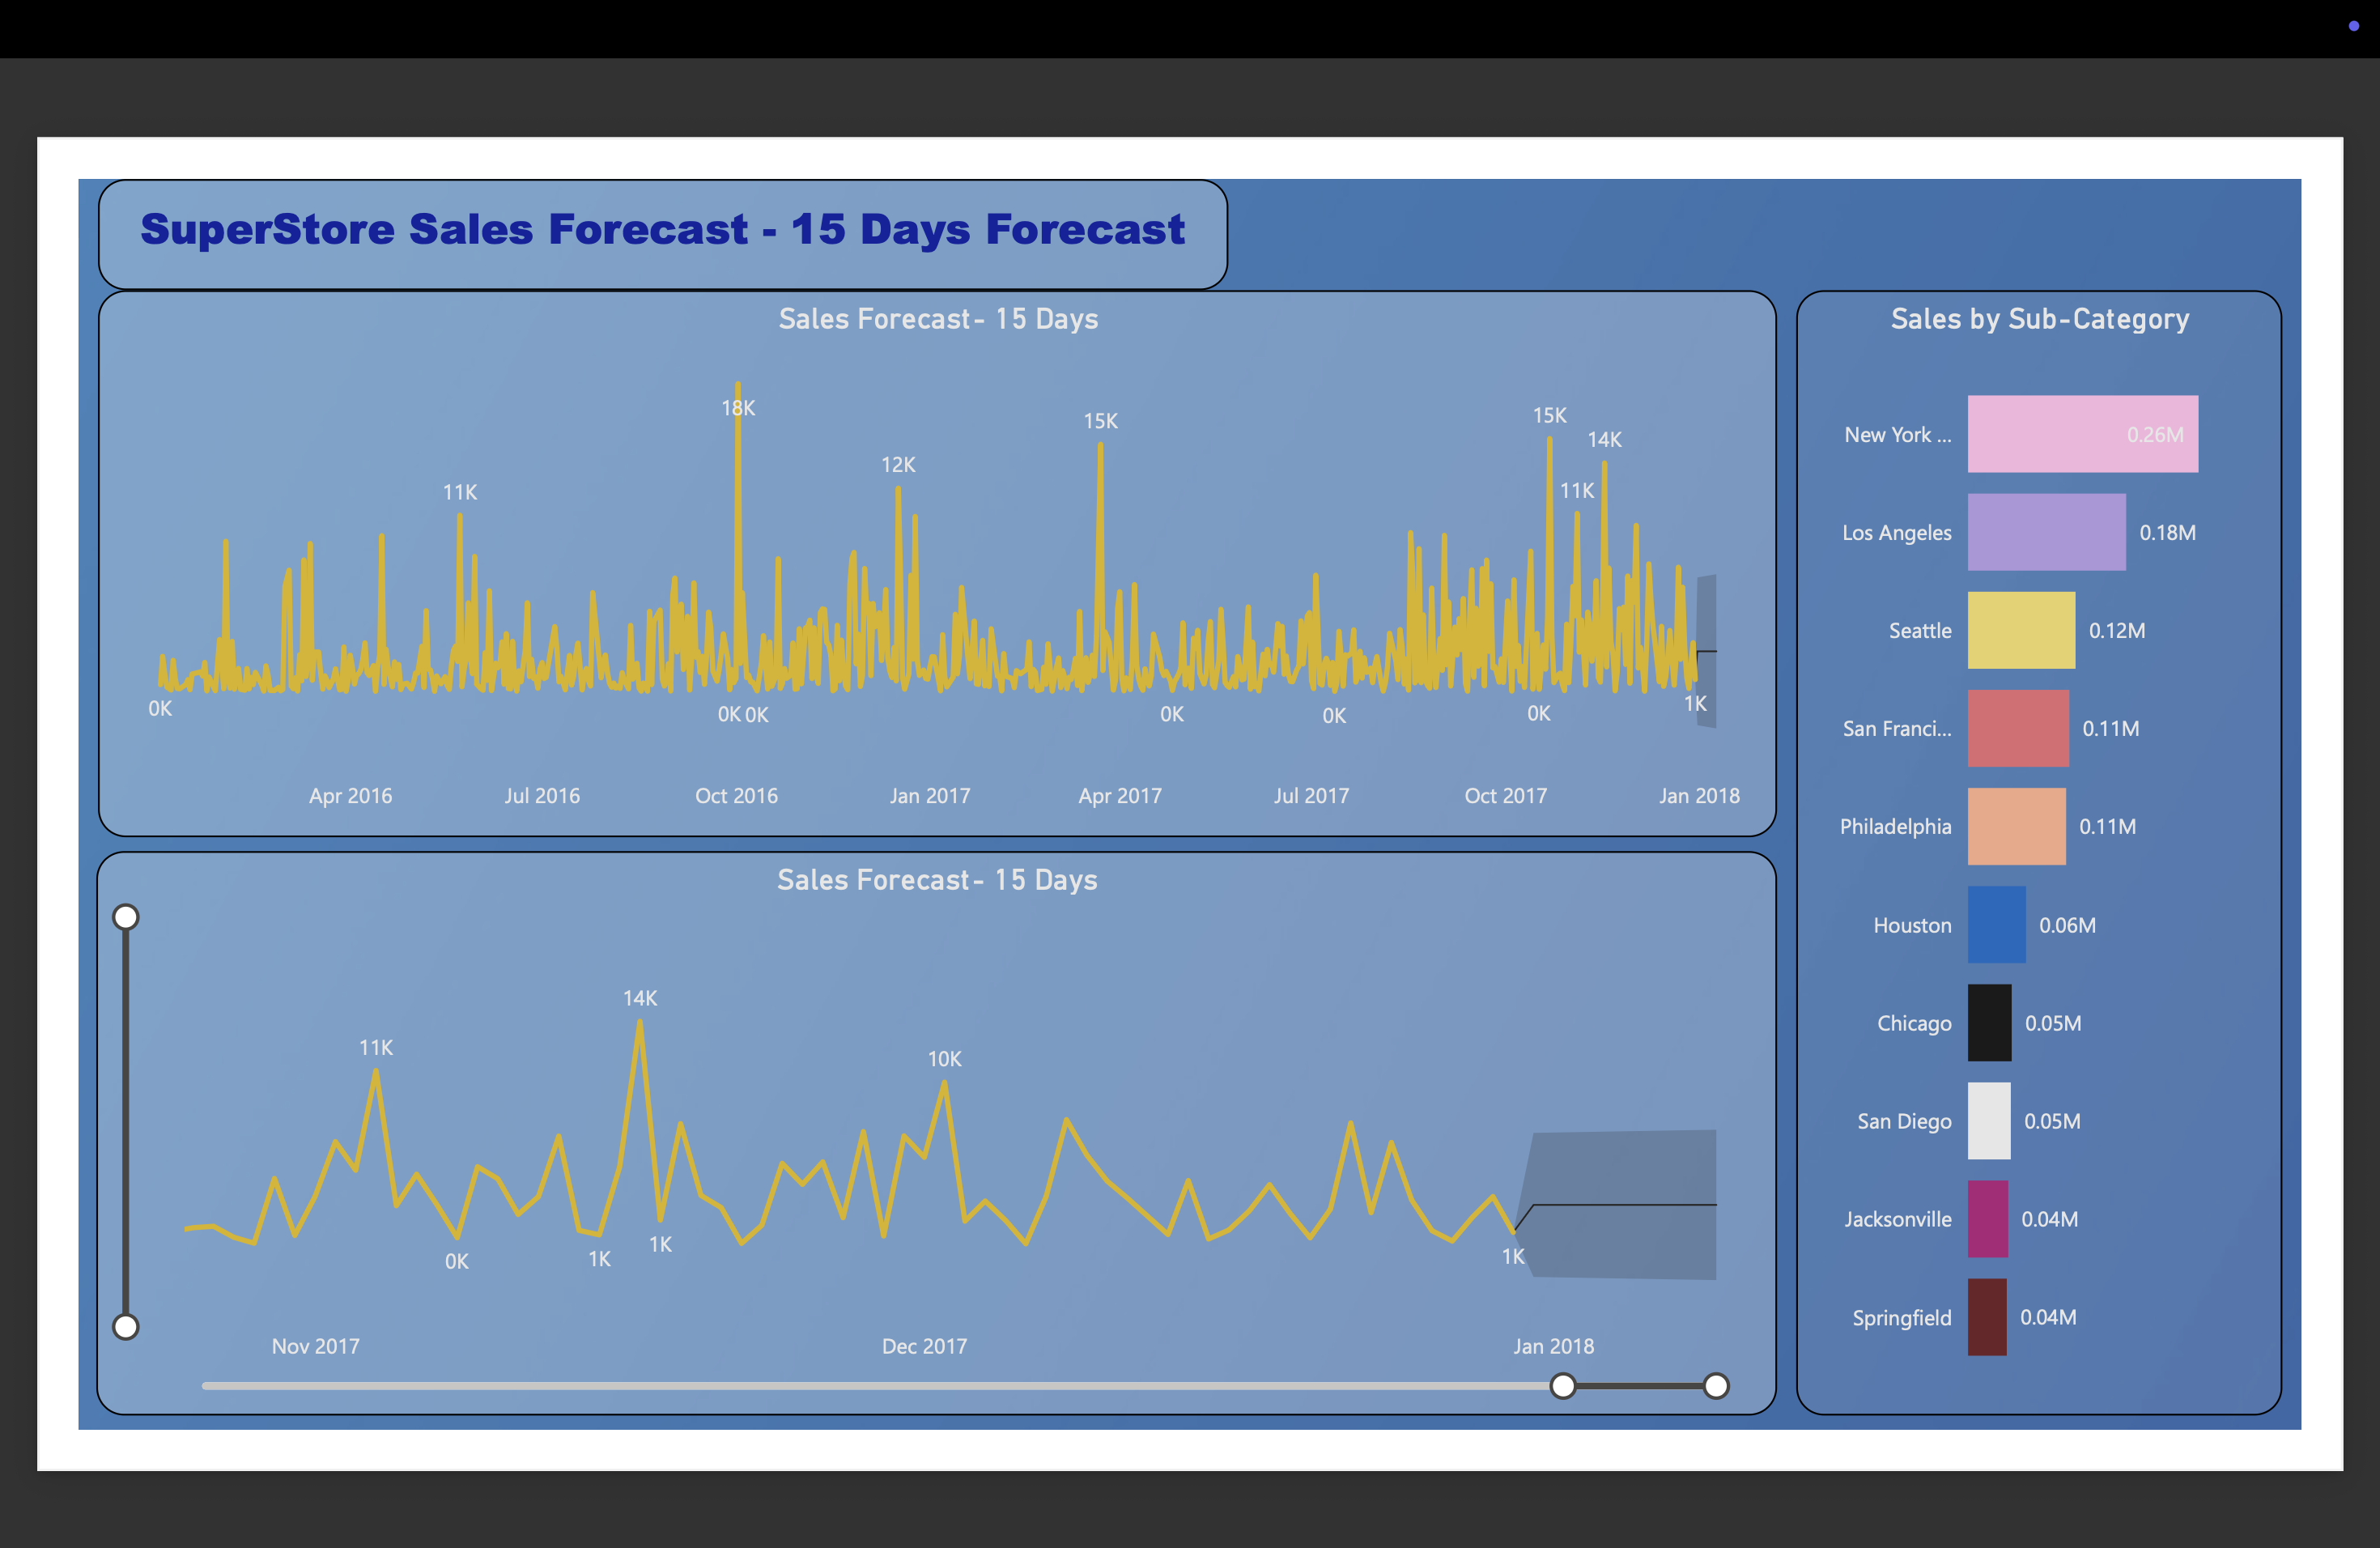

What the dashboard file says about the page in this screenshot:
{"tool":"powerbi","page":{"name":"Page 2","canvas":[1280,720],"ordinal":1},"visuals":[{"type":"lineChart","title":"Sales Forecast- 15 Days","fields":{"Y":["Sum(Sample - Superstore.Sales)"],"Category":["Sample - Superstore.Order Date"]},"box":[11.1,64.4,966.8,314.4],"z":0},{"type":"lineChart","title":"Sales Forecast- 15 Days","fields":{"Y":["Sum(Sample - Superstore.Sales)"],"Category":["Sample - Superstore.Order Date"]},"box":[9.9,387.5,968,324.3],"z":1},{"type":"textbox","box":[11.1,0,651.1,64.4],"z":2},{"type":"clusteredBarChart","title":" Sales by Sub-Category","fields":{"Y":["Sum(Sample - Superstore.Sales)"],"Category":["Sample - Superstore.City"]},"box":[989.1,64.4,279.8,647.4],"z":3}]}

Visuals, with their boxes in screenshot pixels (x1, y1, x2, y2):
"Sales Forecast- 15 Days" lineChart: detection(32, 279, 1805, 856)
"Sales Forecast- 15 Days" lineChart: detection(31, 872, 1805, 1466)
textbox: detection(32, 161, 1226, 279)
" Sales by Sub-Category" clusteredBarChart: detection(1826, 279, 2340, 1466)
